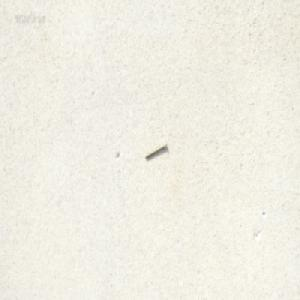Bolt: (143, 140, 167, 160)
